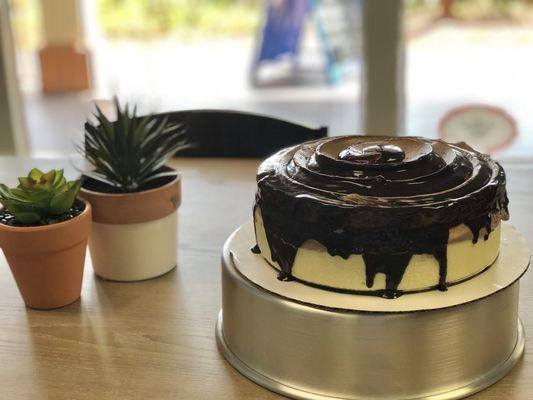sushi: (218, 219, 533, 399)
